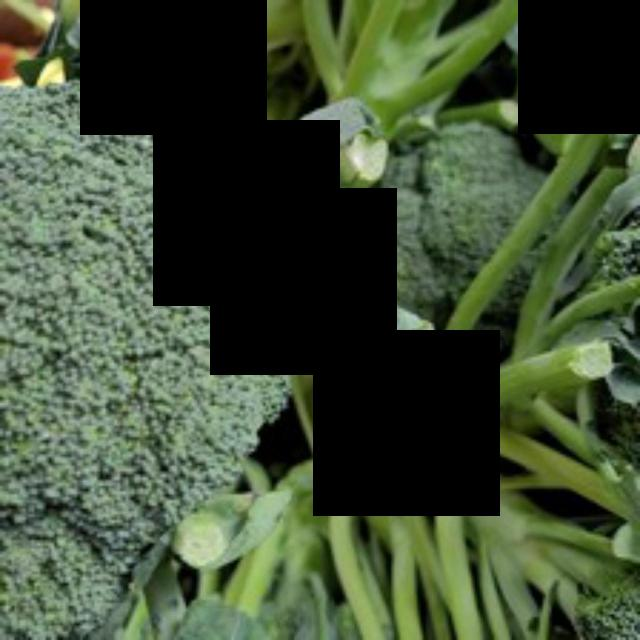broccoli: (0, 71, 294, 637)
